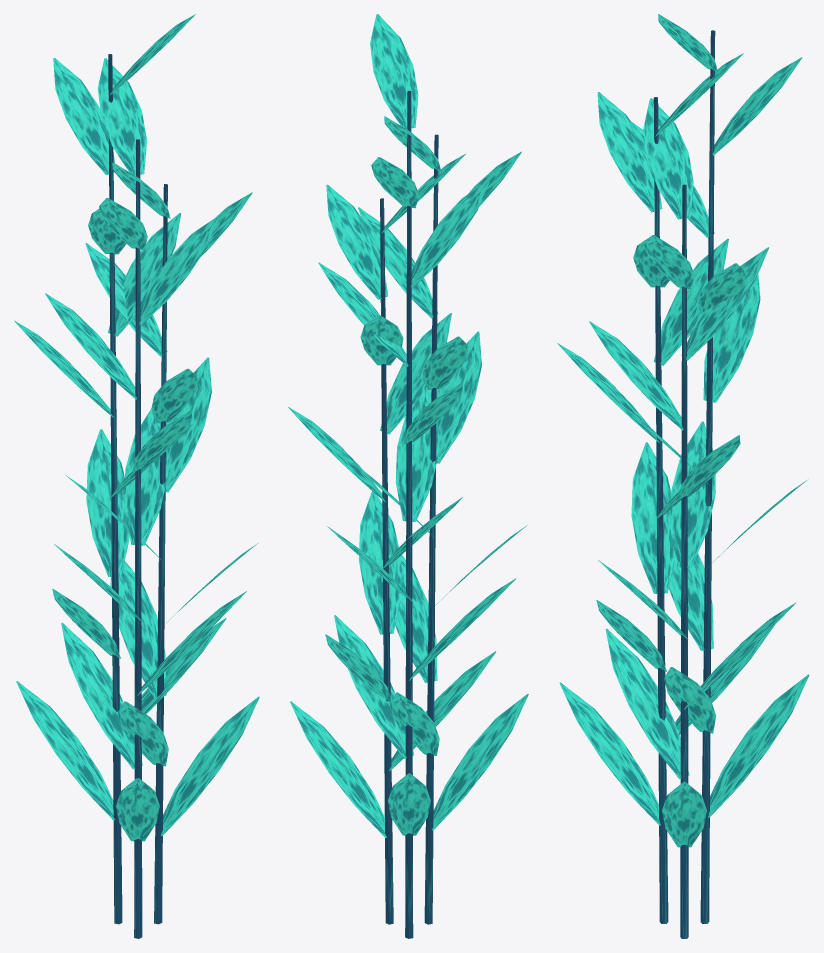
File: alien_glow_kelp.glb
3 renders of one model, left to right at view 1: azimuth 30°, elevation 25°; view 2: azimuth 150°, elevation 25°; view 3: azimuth 270°, elevation 25°, orthographic. The views are drawn at different scales.
Bounding box in the file's own units: 1.35 × 5.26 × 1.28.
1 material, 1 textured.
